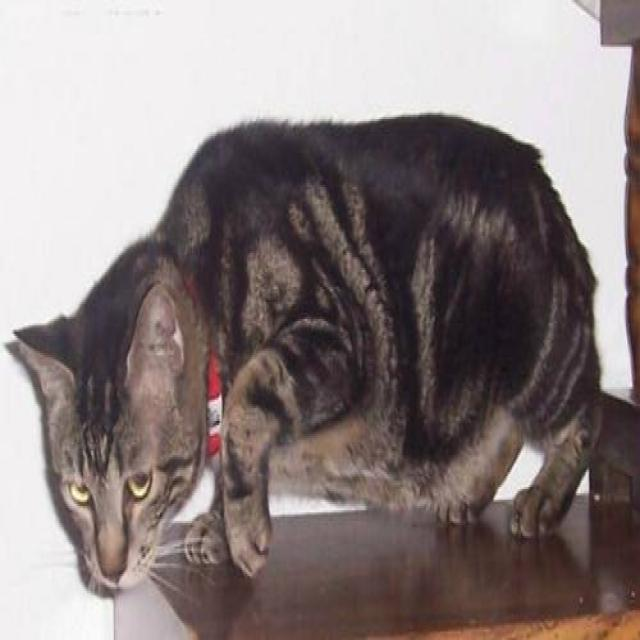cat: (4, 108, 603, 600)
